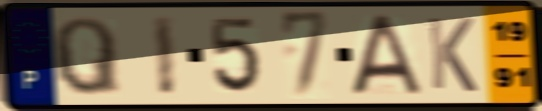5: (209, 15, 264, 96)
7: (277, 8, 330, 103)
A: (348, 13, 425, 97)
I: (149, 13, 179, 99)
K: (424, 14, 480, 95)
Q: (50, 15, 124, 98)
